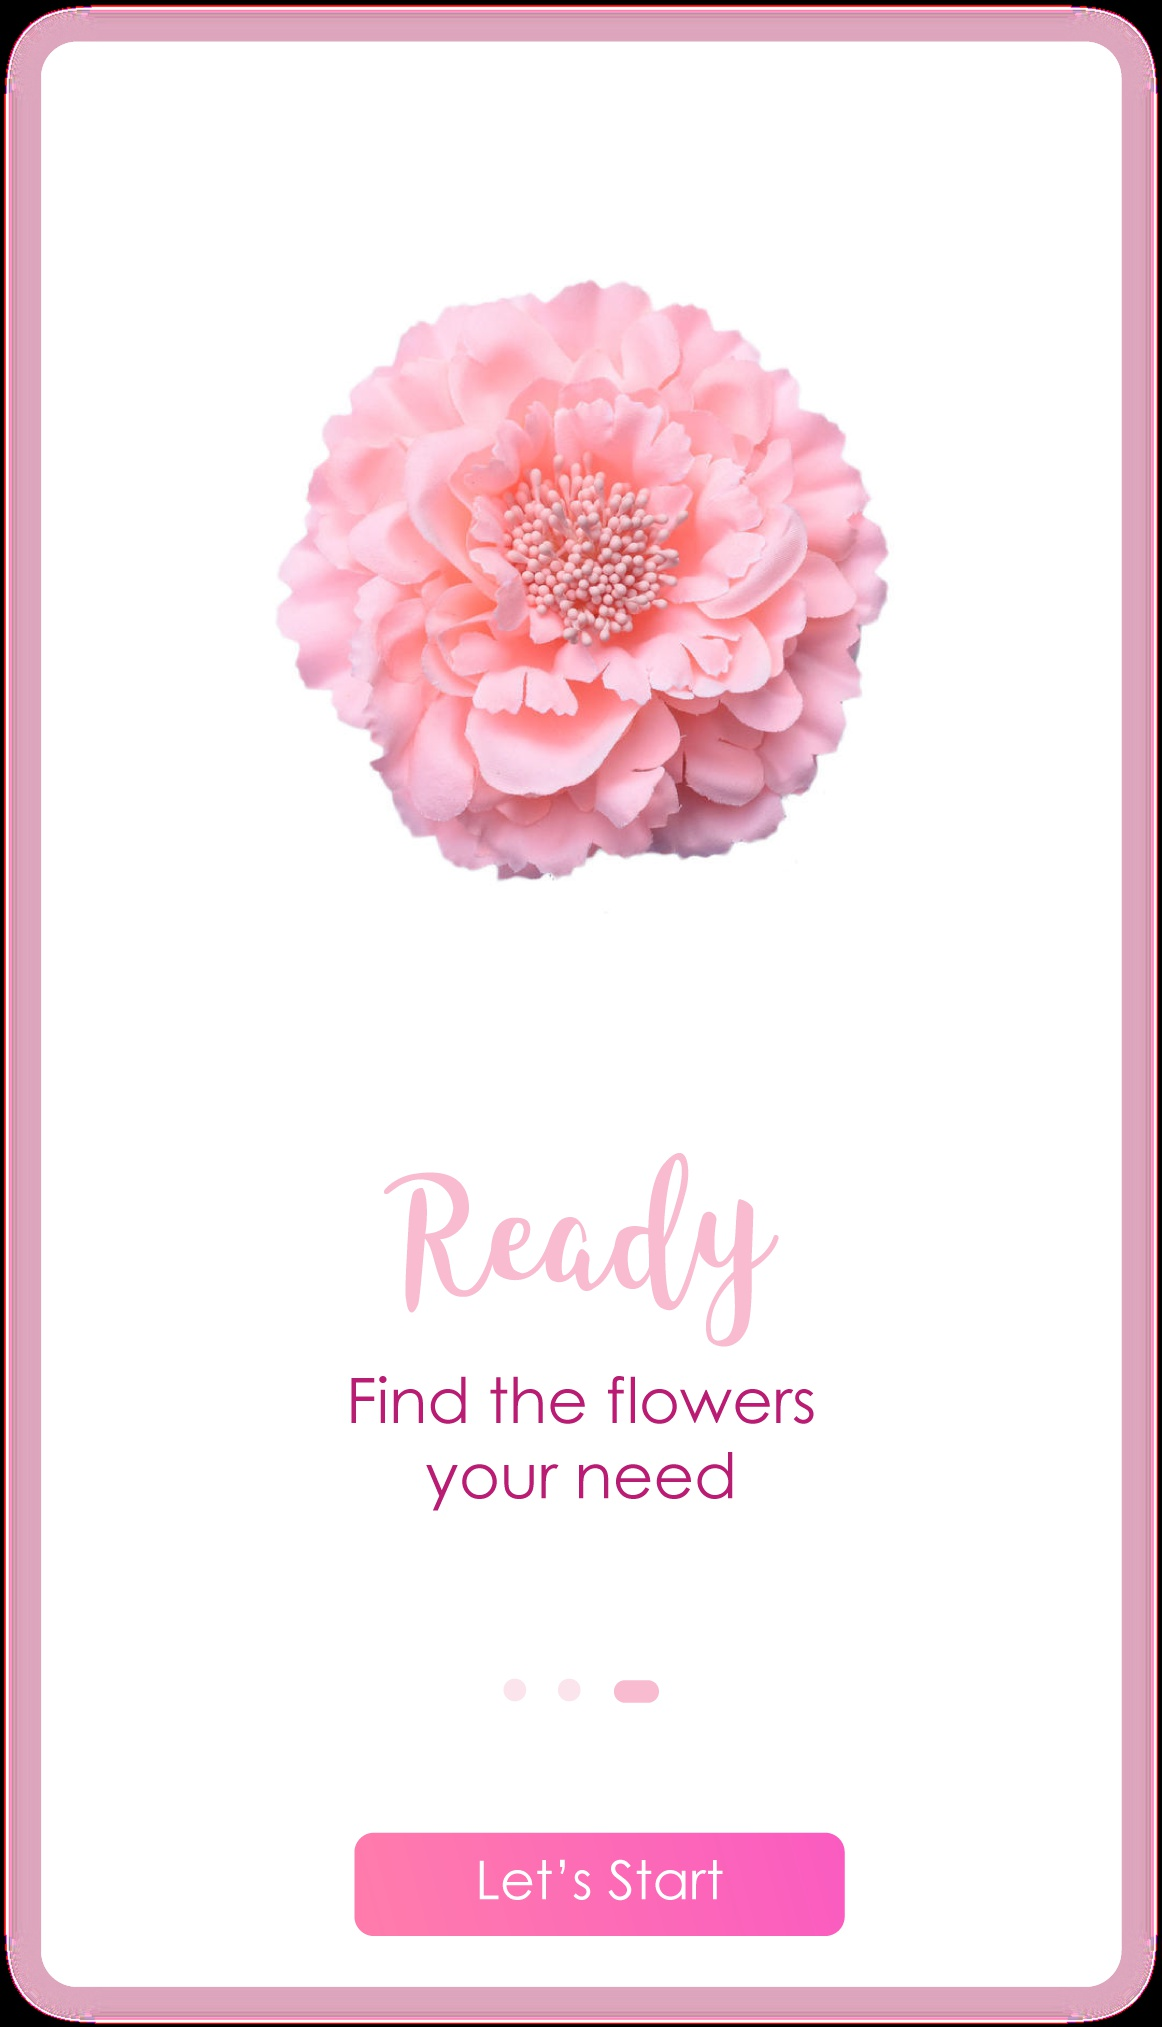Image: (276, 280, 891, 883), (384, 1151, 781, 1348)
PageIndicator: (502, 1678, 660, 1705)
Text: (351, 1375, 815, 1513)
TextButton: (353, 1832, 846, 1937)
